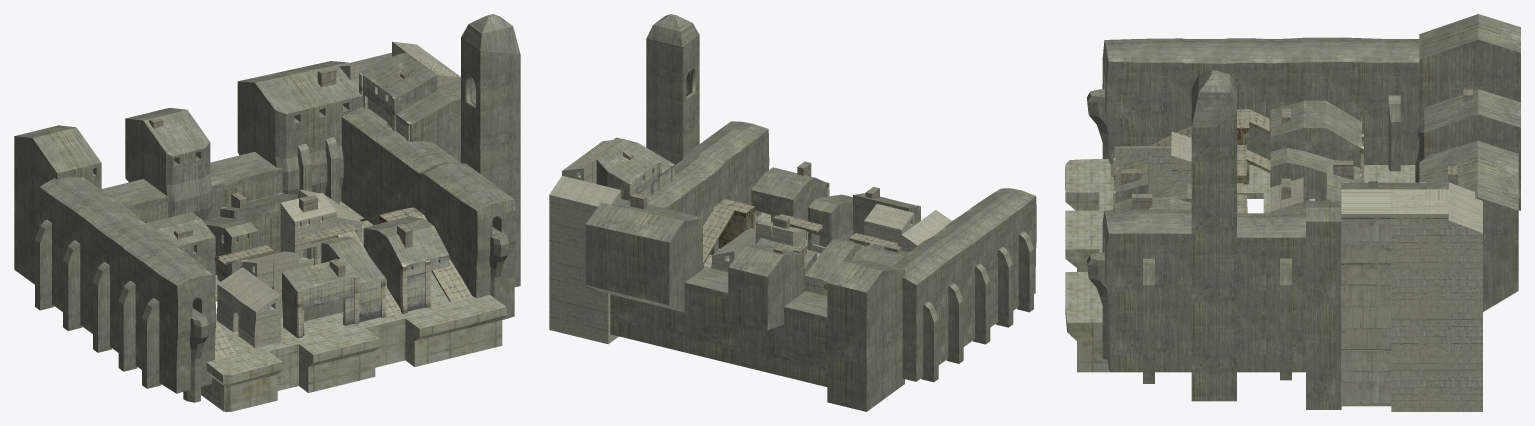
File: SM_WestVillage_Block00.fbx
The picture shows the model from 3 angles, left to right: view 1: azimuth 30°, elevation 25°; view 2: azimuth 150°, elevation 25°; view 3: azimuth 270°, elevation 25°; orthographic projection. The views are drawn at different scales.
Parts seen in each view (by area): view 1: SM_WestVillage_Block00; view 2: SM_WestVillage_Block00; view 3: SM_WestVillage_Block00.
Boxes of the visible parts, left/top/right/bottom form: SM_WestVillage_Block00: left=14, top=14, right=520, bottom=411; SM_WestVillage_Block00: left=549, top=14, right=1036, bottom=411; SM_WestVillage_Block00: left=1065, top=14, right=1520, bottom=411.
Size of the model in its own units: 5875 by 3887 by 4919.
